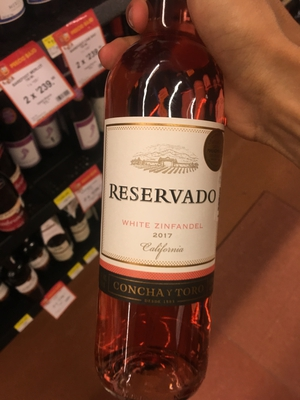reservado white zinfandel: (76, 36, 253, 353)
